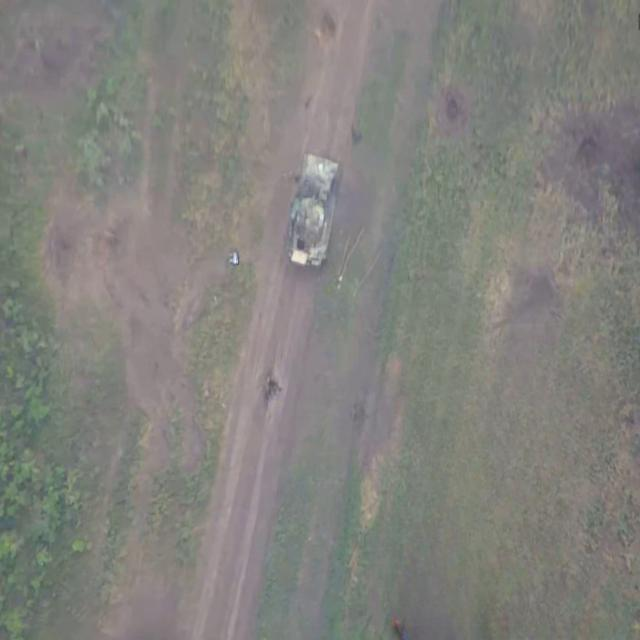AIFV: (284, 152, 346, 276)
